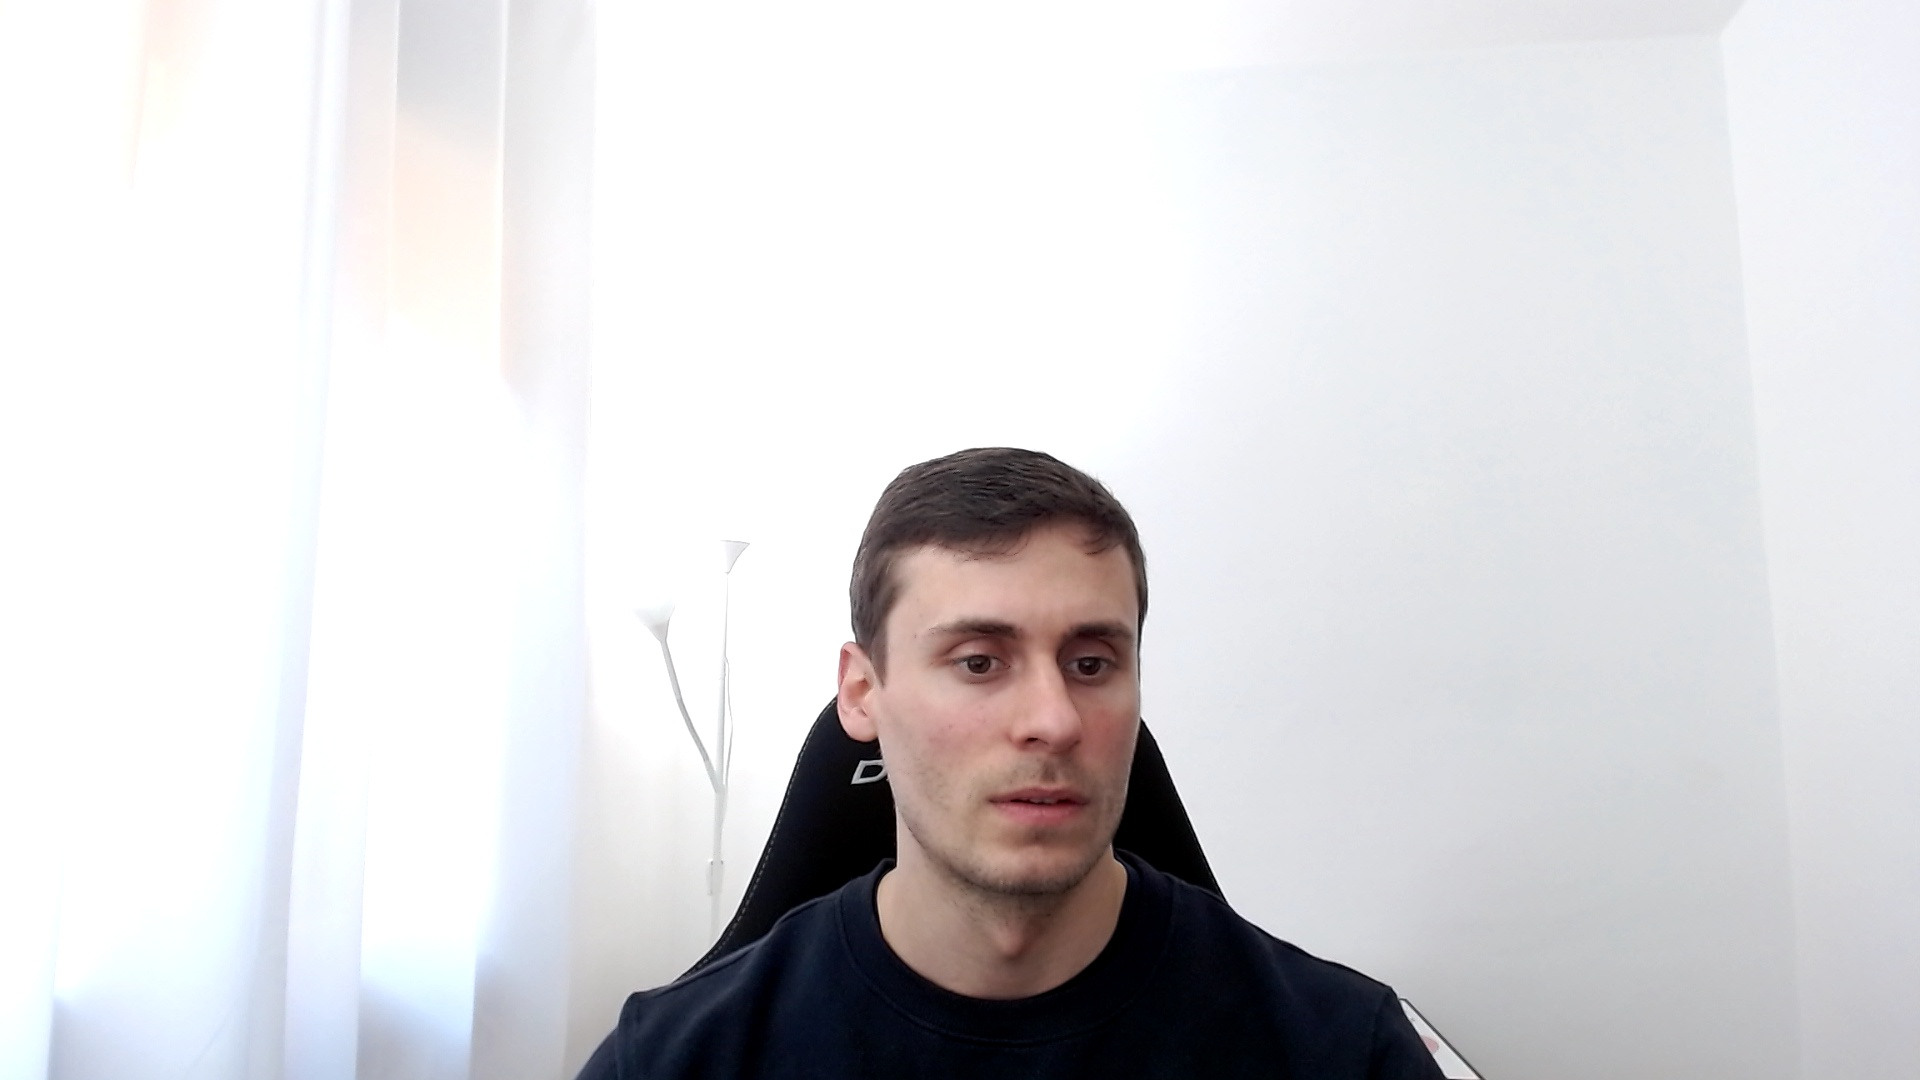No-mask: (839, 447, 1145, 896)
